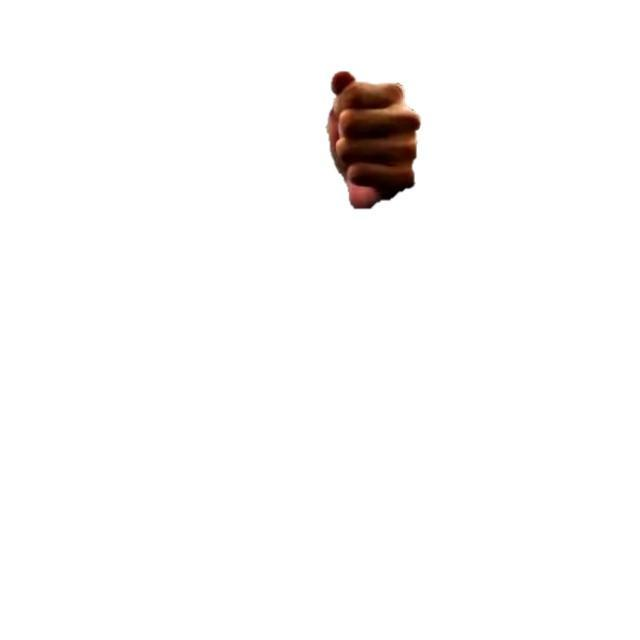gu-: (323, 68, 422, 196)
